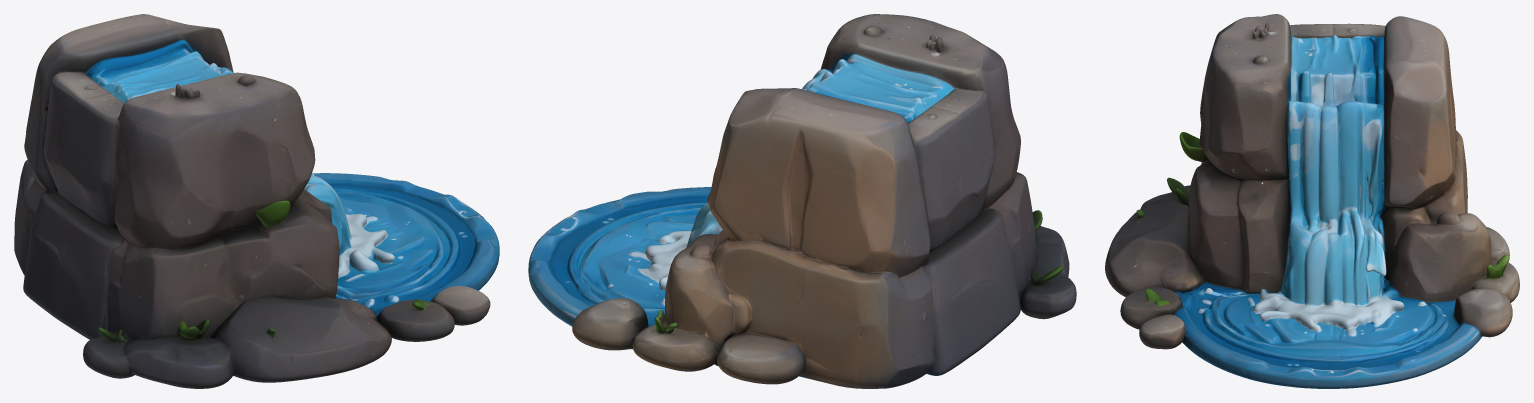
The model's file is nature-waterfall-small.glb.
The picture shows the model from 3 angles, left to right: view 1: azimuth 30°, elevation 25°; view 2: azimuth 150°, elevation 25°; view 3: azimuth 270°, elevation 25°; orthographic projection. The views are drawn at different scales.
Visible parts, largest first — view 1: tripo_node_3aadfee2-6e9d-4cd8-adce-e1bc825911da; view 2: tripo_node_3aadfee2-6e9d-4cd8-adce-e1bc825911da; view 3: tripo_node_3aadfee2-6e9d-4cd8-adce-e1bc825911da.
Boxes of the visible parts, x1=… form: tripo_node_3aadfee2-6e9d-4cd8-adce-e1bc825911da: x1=14, y1=14, x2=499, y2=388; tripo_node_3aadfee2-6e9d-4cd8-adce-e1bc825911da: x1=528, y1=14, x2=1076, y2=388; tripo_node_3aadfee2-6e9d-4cd8-adce-e1bc825911da: x1=1105, y1=14, x2=1519, y2=388.
Bounding box in the file's own units: 7.31 × 4 × 6.59.
Materials: 1 (1 with a texture image).
